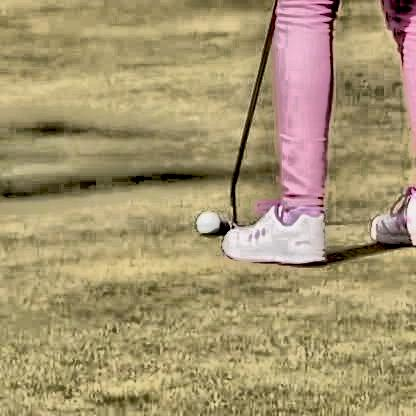golfball: (195, 208, 219, 232)
